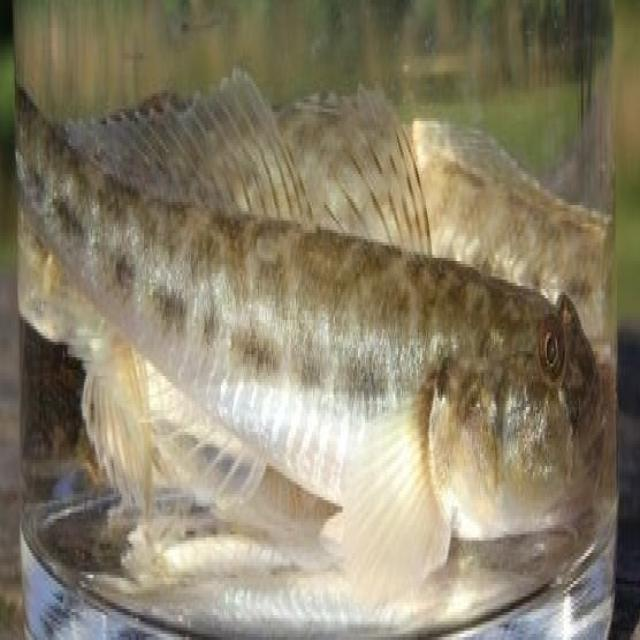Goby: (0, 29, 640, 570)
